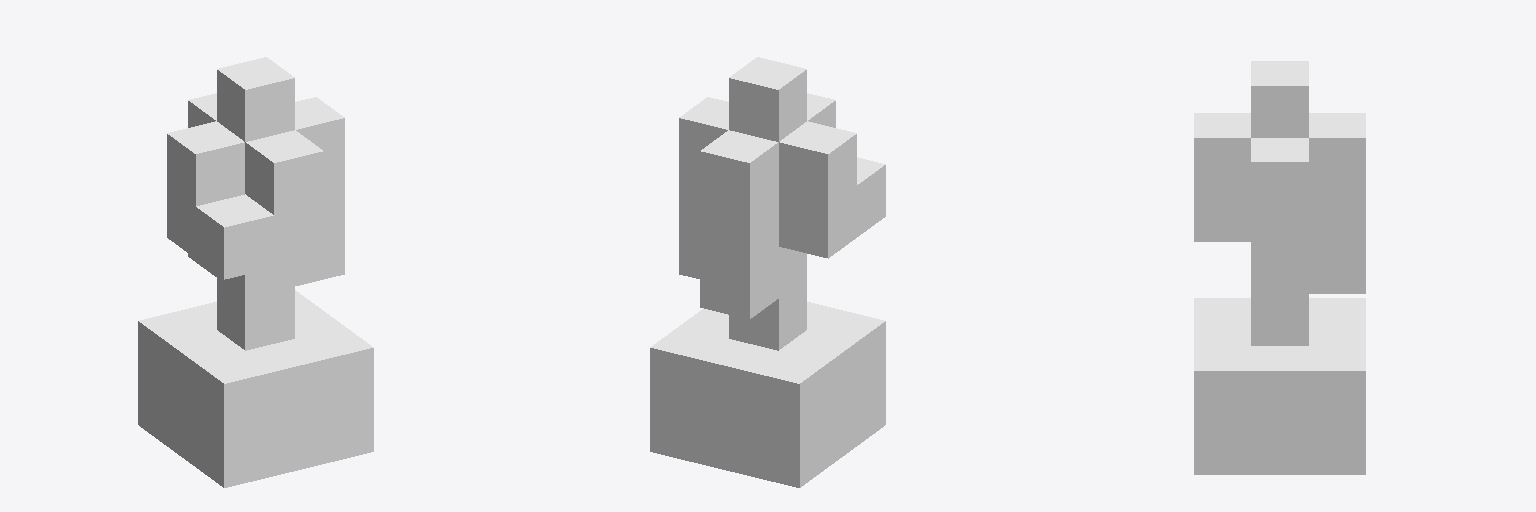
The model's file is flowerRed.obj.
The picture shows the model from 3 angles: view 1: azimuth 30°, elevation 25°; view 2: azimuth 150°, elevation 25°; view 3: azimuth 270°, elevation 25°; orthographic projection.
Parts seen in each view (by area): view 1: object 1; view 2: object 1; view 3: object 1.
Part boxes in pixels (x1,y1,x2,y2): object 1: (138,57,373,487); object 1: (650,57,885,487); object 1: (1194,61,1365,474).
Size of the model in its own units: 0.3 by 0.7 by 0.3.